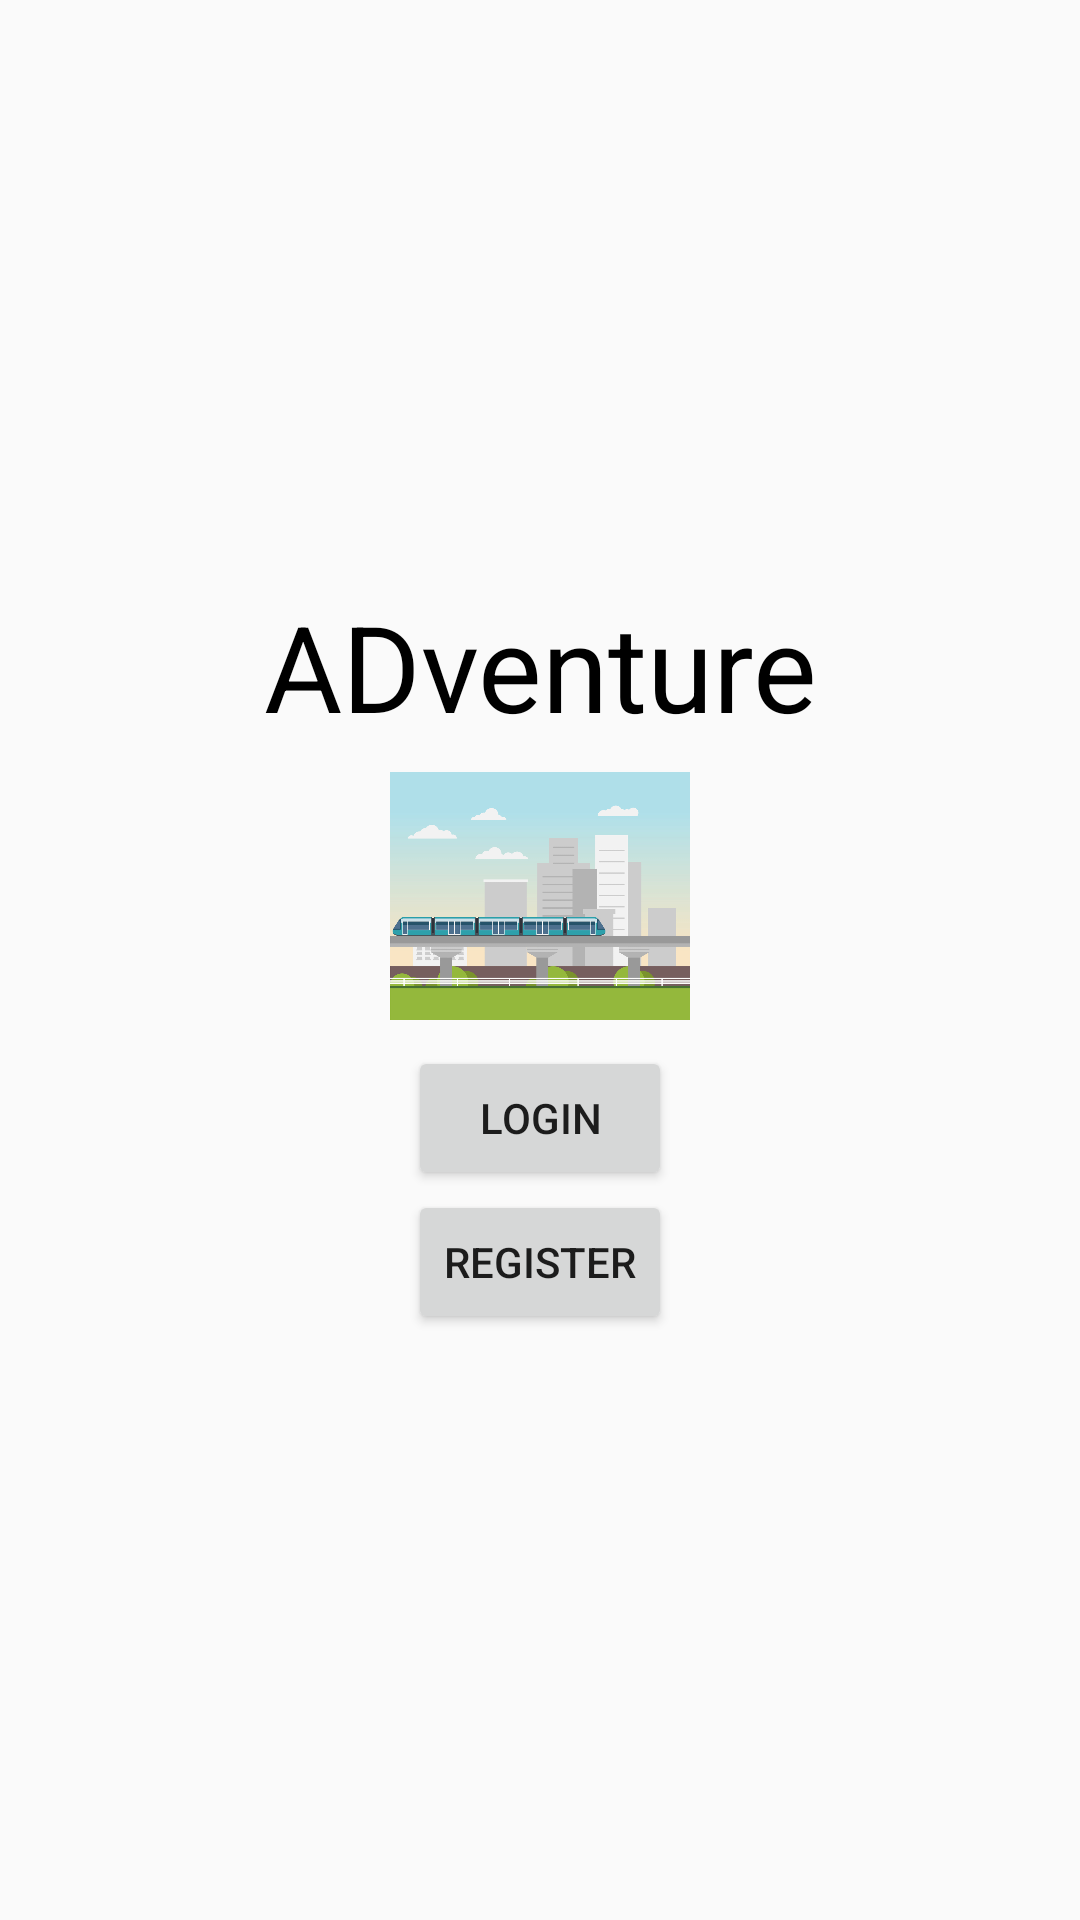

Screen size 1080w x 1920h. Icon name, then its box in pixels as (x1, y1, x2, y2):
metro: (390, 772, 690, 1020)
